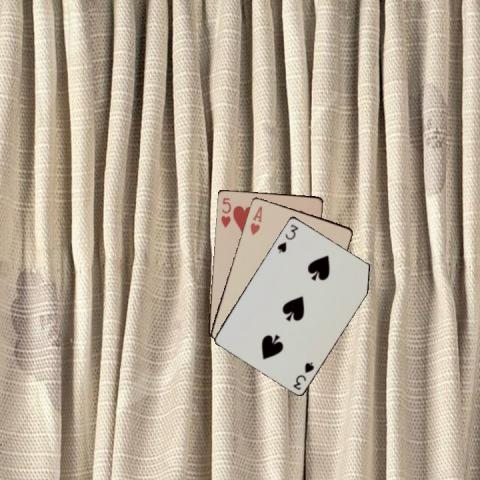3s: (274, 221, 299, 254), (290, 359, 315, 391)
5h: (217, 194, 232, 229)
Ah: (247, 203, 263, 236)
